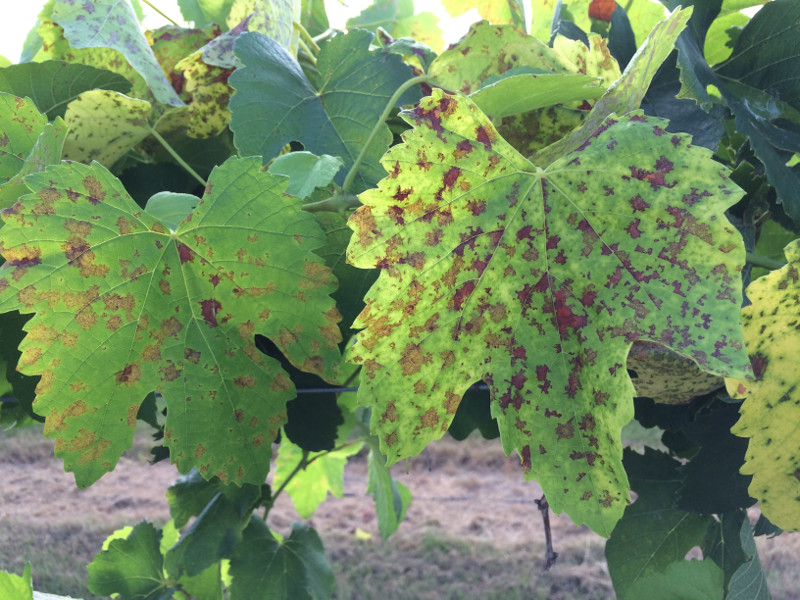downy: (415, 107, 634, 326), (152, 352, 288, 488), (505, 336, 635, 466), (146, 227, 270, 351), (11, 185, 130, 304), (34, 312, 142, 420), (635, 132, 728, 225), (640, 273, 731, 364), (363, 333, 452, 422), (277, 313, 348, 384), (57, 420, 122, 485), (272, 249, 332, 309), (563, 43, 623, 103), (74, 101, 131, 158), (474, 26, 529, 81), (743, 416, 796, 469), (752, 289, 800, 337), (752, 349, 800, 397), (640, 227, 686, 273), (366, 203, 411, 248), (757, 478, 799, 520), (180, 65, 222, 107), (701, 229, 740, 268), (433, 55, 466, 88)
